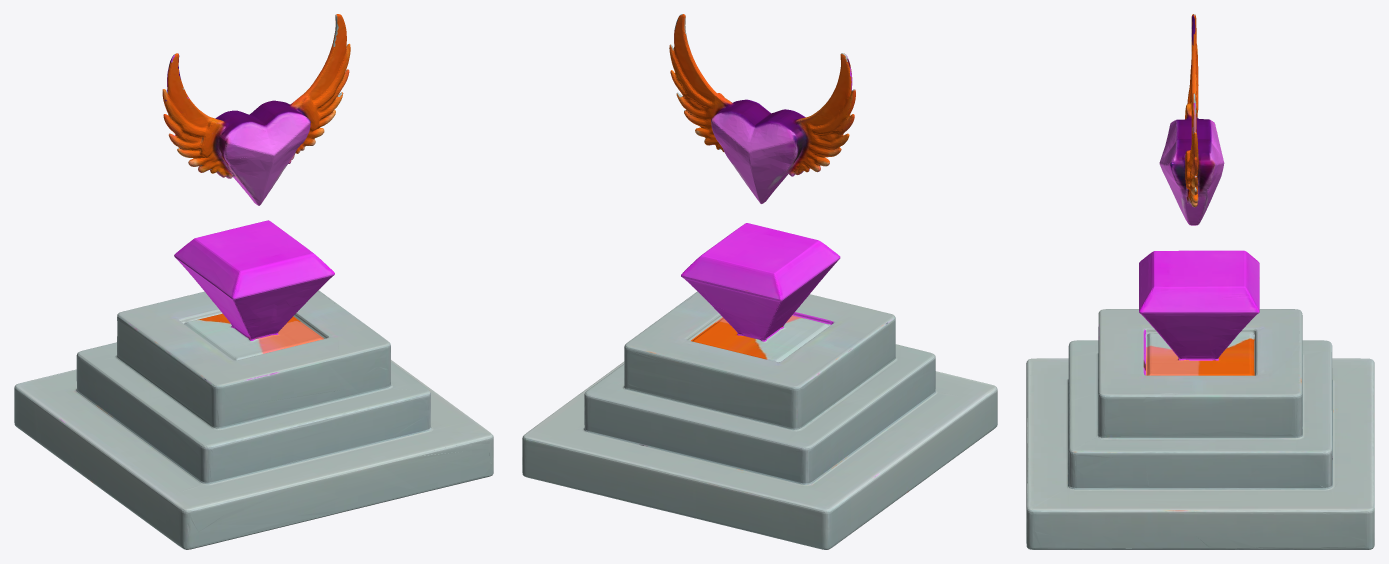
File: nexus_core_love.glb
3 views of the same model, side by side, from view 1: azimuth 30°, elevation 25°; view 2: azimuth 150°, elevation 25°; view 3: azimuth 270°, elevation 25° (orthographic).
Parts seen in each view (by area): view 1: tmp4o4_joq8.ply; view 2: tmp4o4_joq8.ply; view 3: tmp4o4_joq8.ply.
Part boxes in pixels (x1,y1,x2,y2): tmp4o4_joq8.ply: (14,14,493,549); tmp4o4_joq8.ply: (522,14,997,549); tmp4o4_joq8.ply: (1026,14,1374,549).
Bounding box in the file's own units: 1.55 × 1.99 × 1.5.
1 material, 1 textured.
